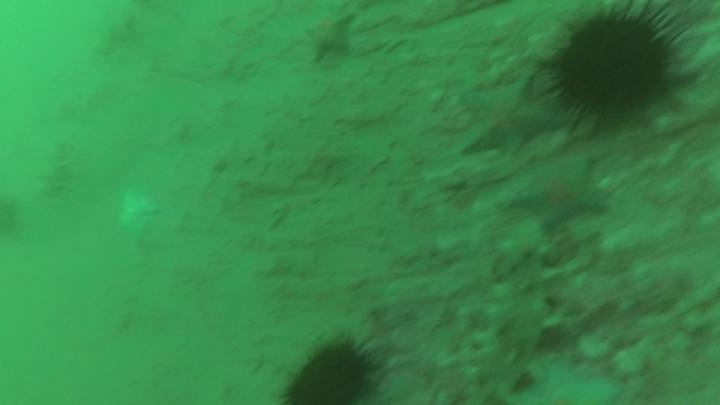echinus: (560, 14, 668, 113), (289, 345, 370, 405)
starfish: (461, 77, 555, 157), (515, 160, 604, 228), (306, 15, 356, 60)
